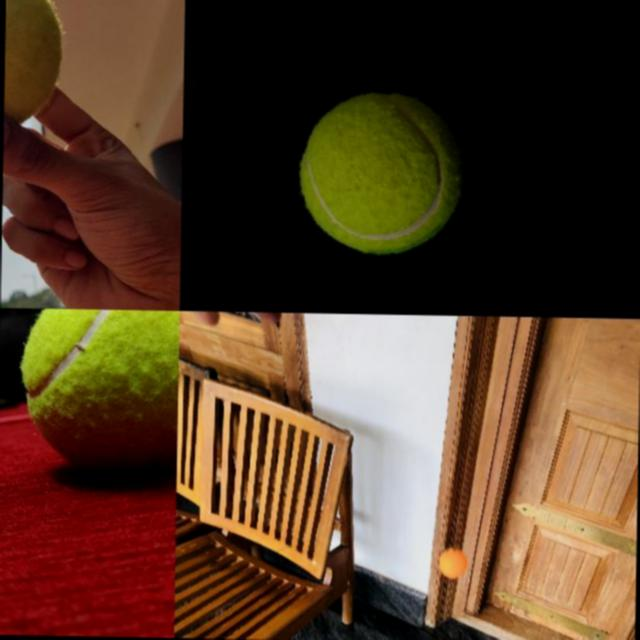tennis-ball: (298, 90, 466, 256), (15, 308, 178, 476), (3, 0, 61, 136)
